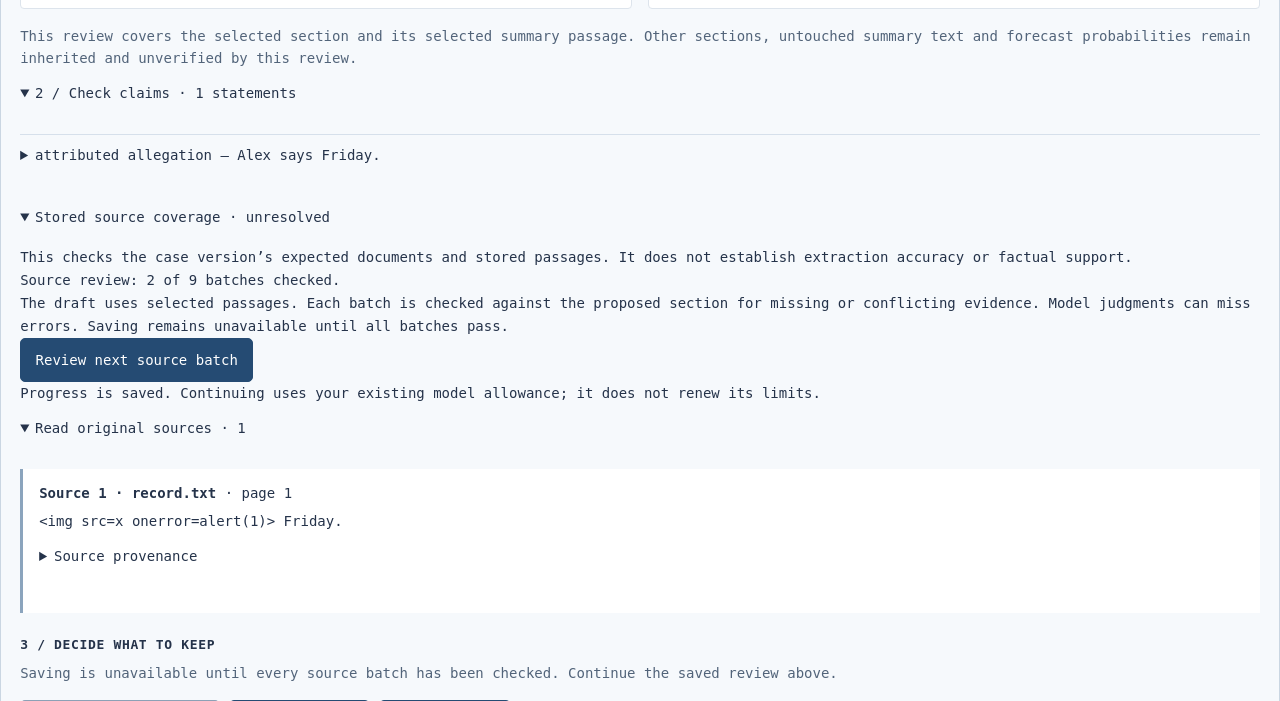
Scenario: continues a saved source batch only on explicit request with its exact digest
(page scrolled)
Click the button with test id "continue-source-review". click: coordinates (137, 360)
box: x1=20 y1=338 x2=253 y2=382
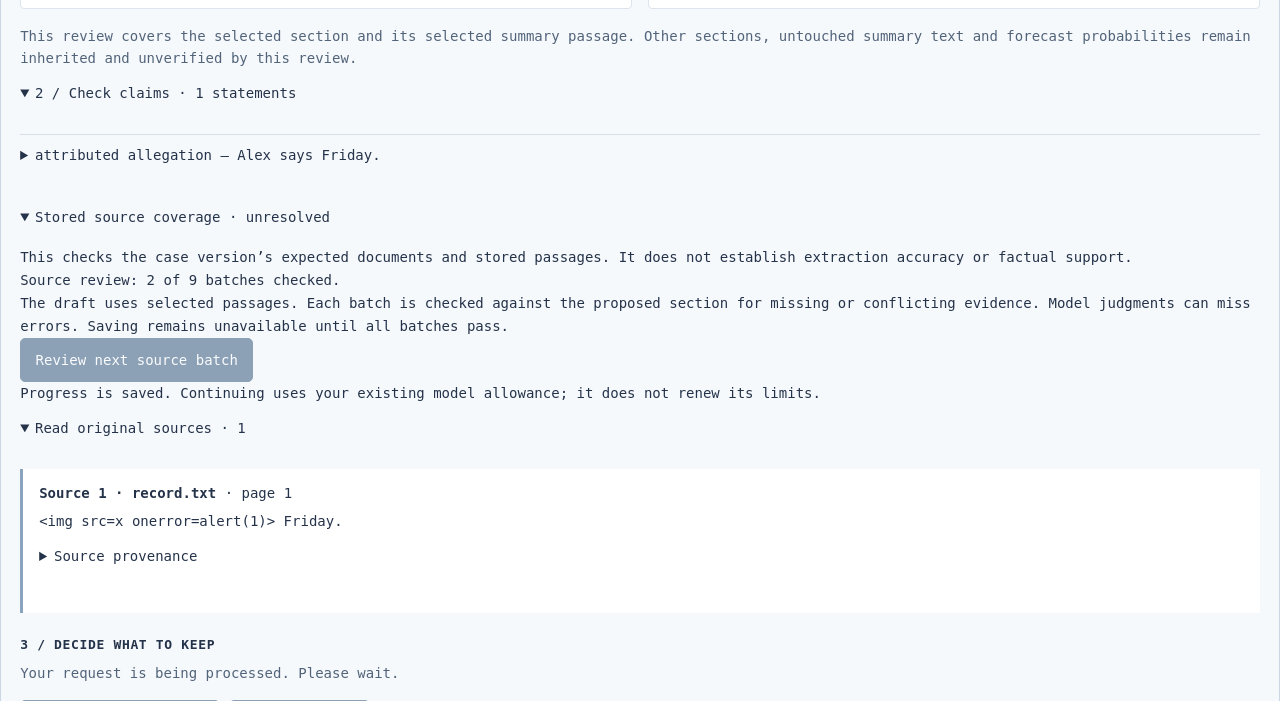
Click the button with test id "continue-source-review". click: coordinates (137, 360)
box: x1=20 y1=338 x2=253 y2=382
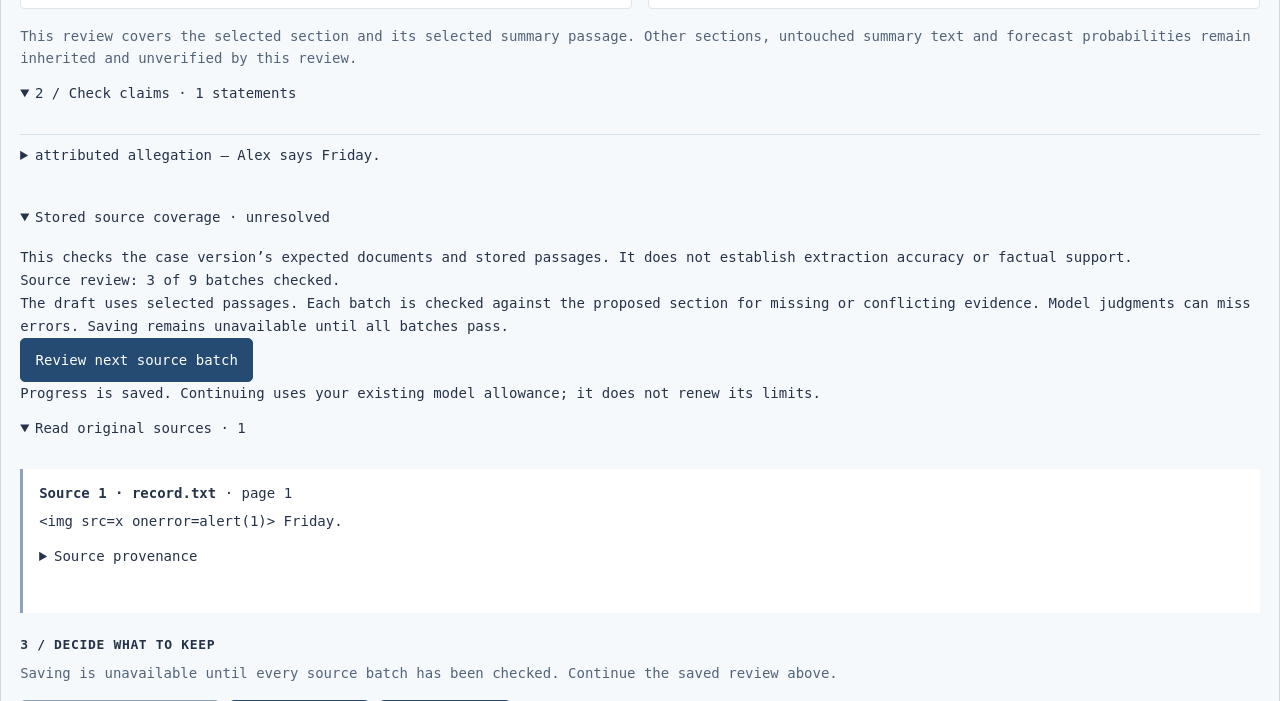
expect the text "3 of 9 batches checked" is shown: met, box x1=20 y1=272 x2=340 y2=288
